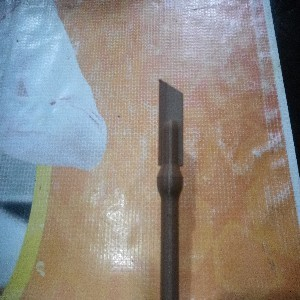cutter: (156, 77, 185, 300)
